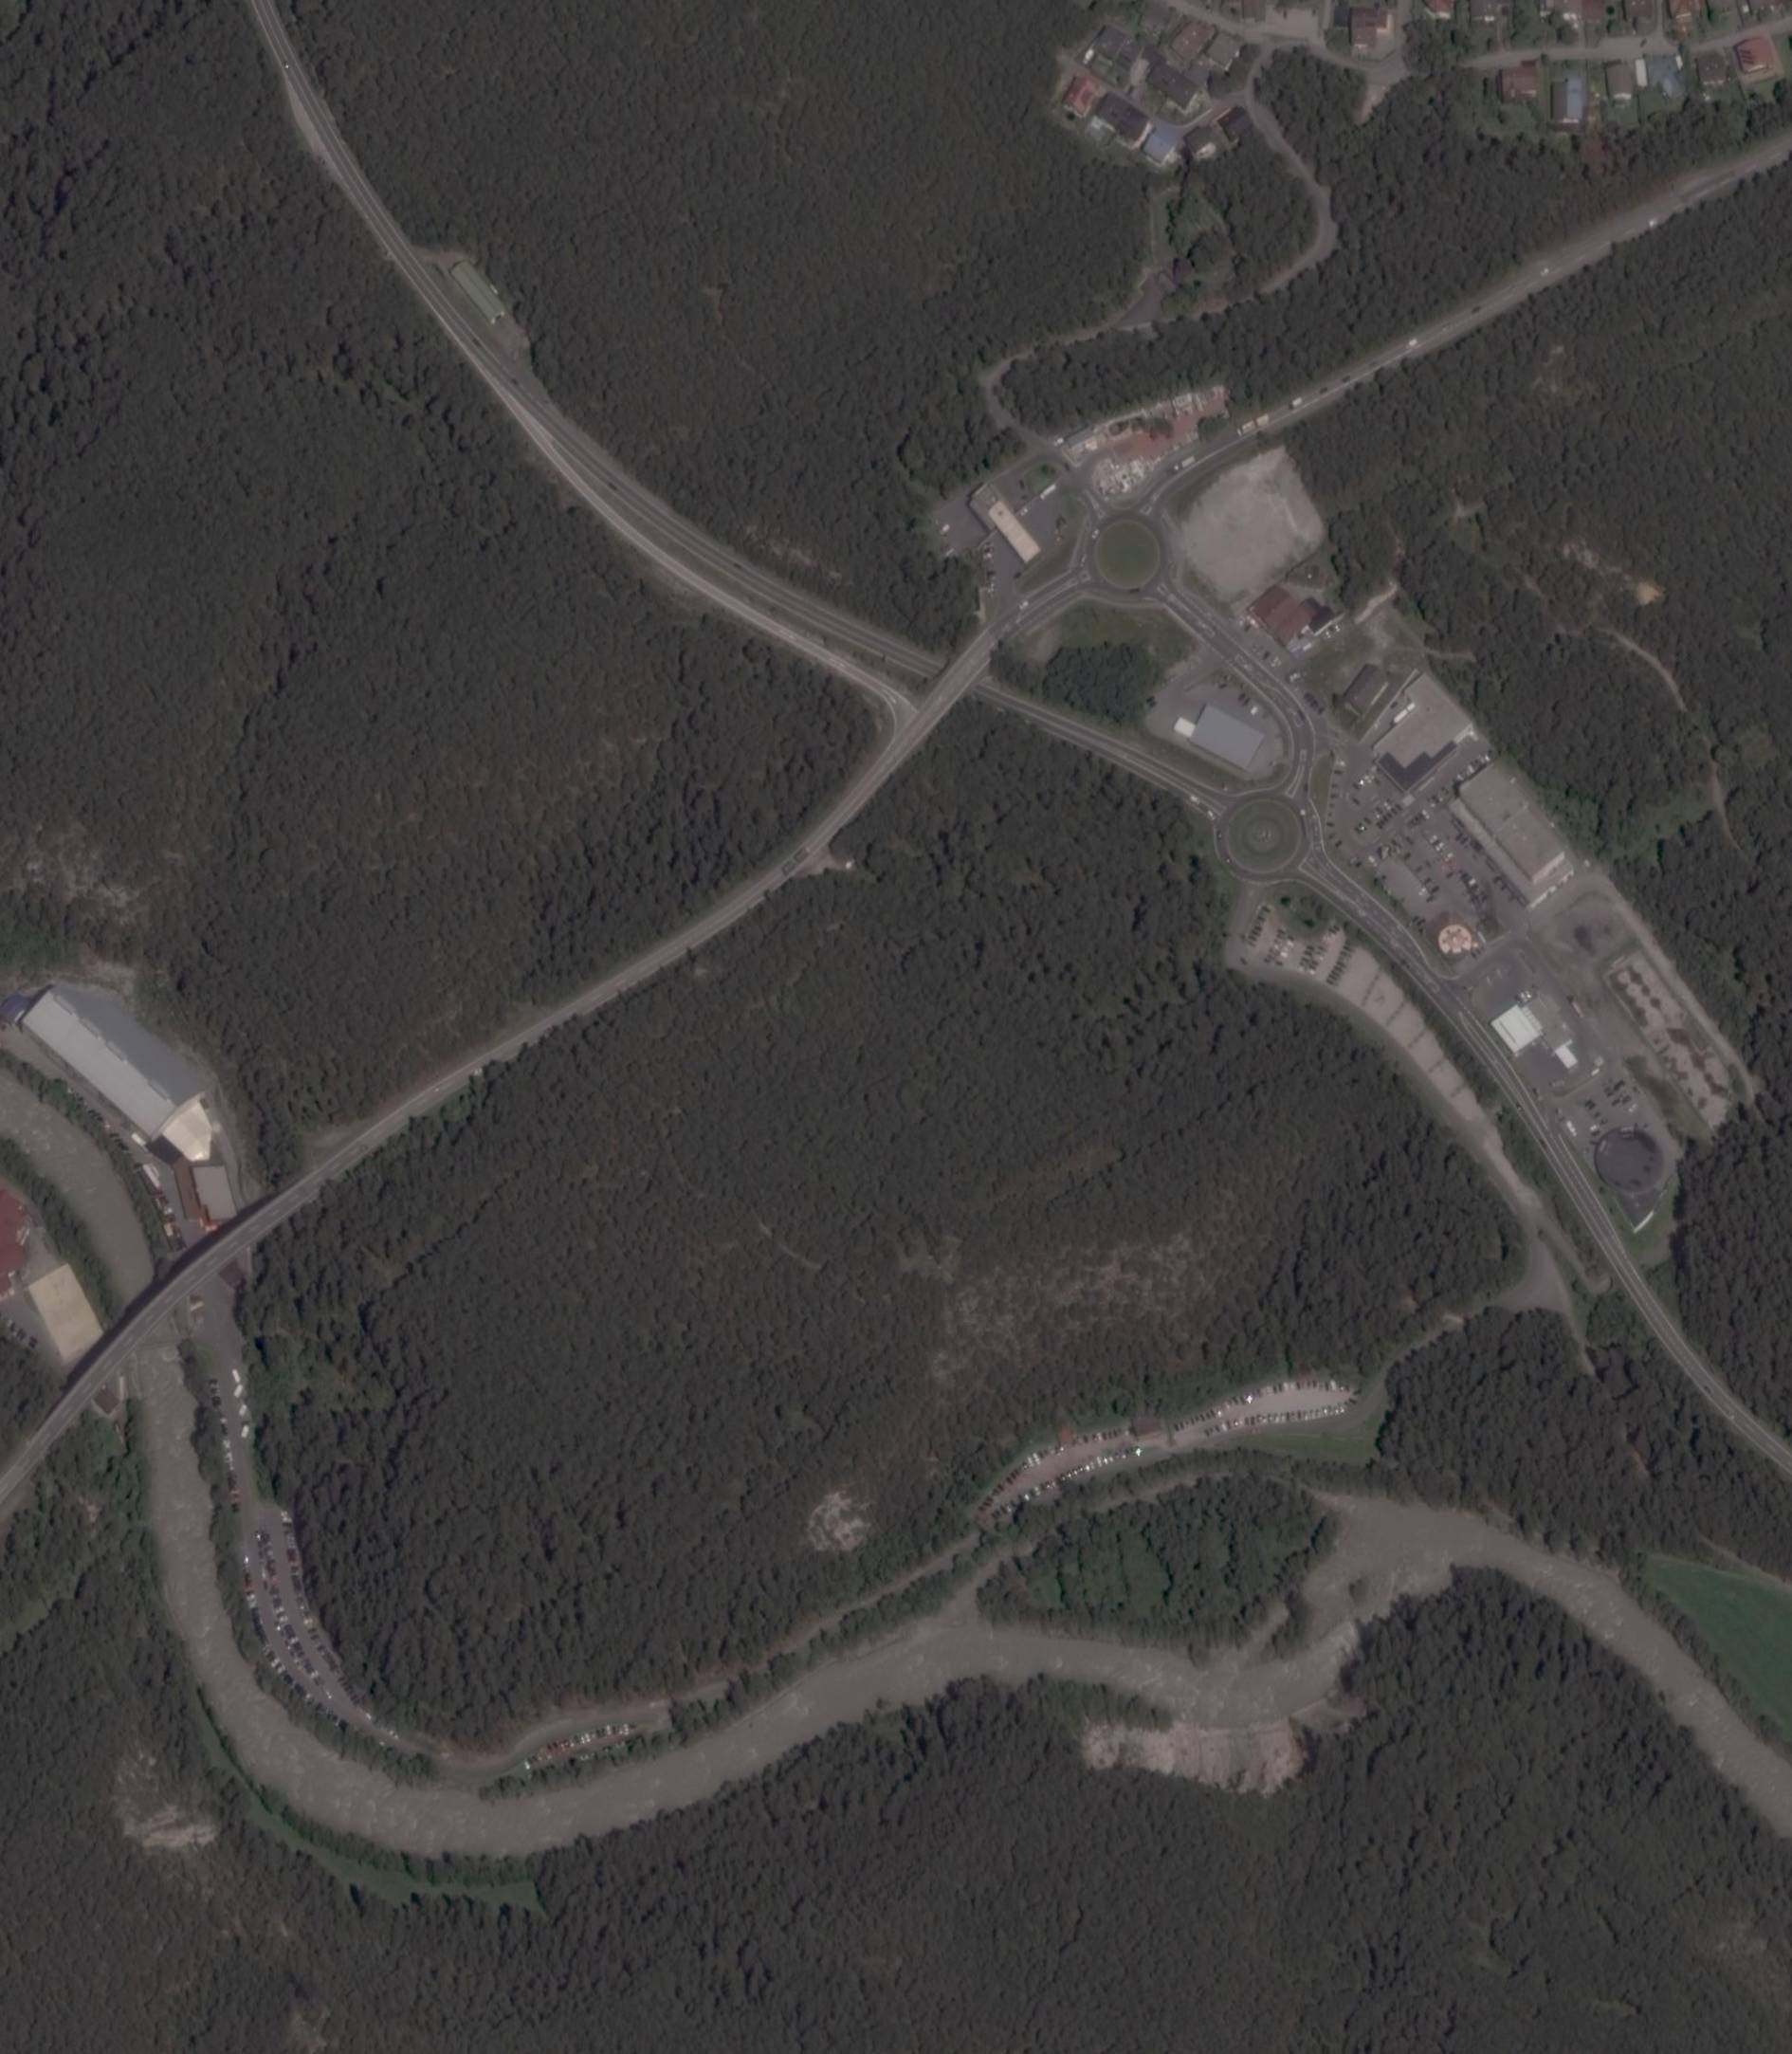bridge: (115, 1209, 269, 1354)
roundabout: (1214, 789, 1315, 887), (1078, 507, 1174, 599)
